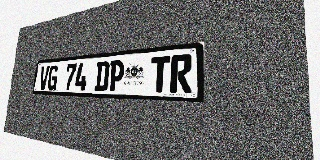4: (74, 62, 88, 91)
7: (64, 63, 77, 90)
D: (94, 61, 110, 91)
G: (47, 65, 59, 90)
P: (108, 59, 125, 92)
R: (170, 54, 192, 93)
T: (150, 56, 171, 93)
V: (38, 66, 50, 90)
